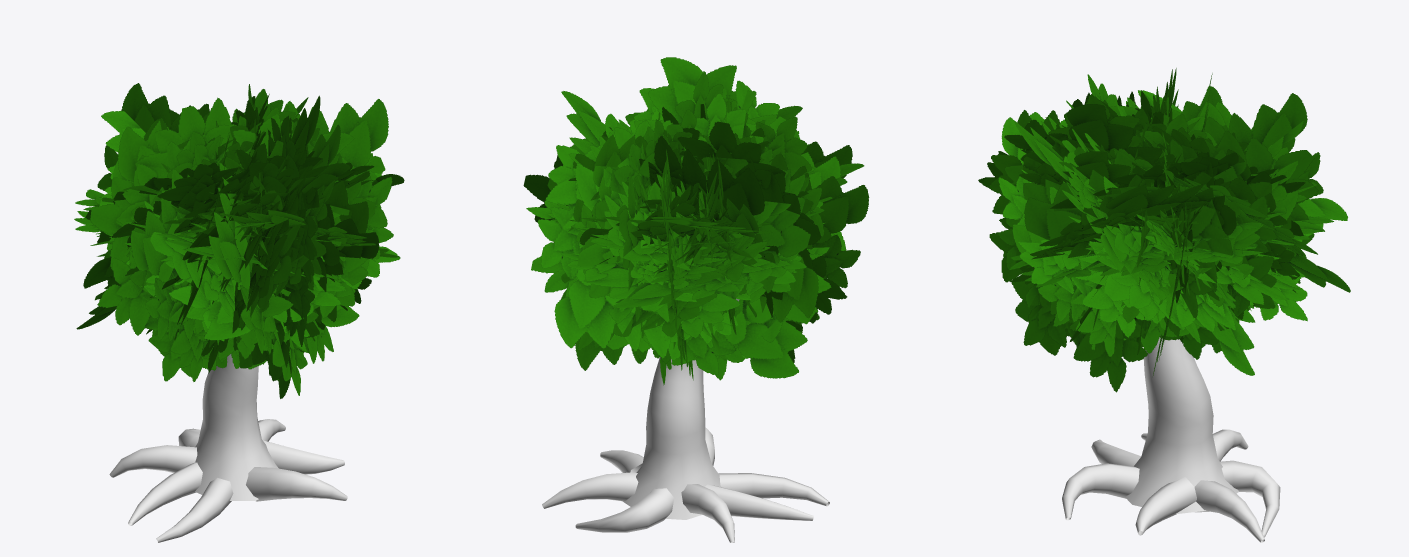
The model's file is tree.fbx.
3 views of the same model, side by side, from view 1: azimuth 30°, elevation 25°; view 2: azimuth 150°, elevation 25°; view 3: azimuth 270°, elevation 25° (orthographic). The views are drawn at different scales.
Visible parts, largest first — view 1: TreeLeaves2_LOD0, TreeStump_LOD0; view 2: TreeLeaves2_LOD0, TreeStump_LOD0; view 3: TreeLeaves2_LOD0, TreeStump_LOD0.
Boxes of the visible parts, box(x1,y1,x2,y2) form: TreeLeaves2_LOD0: box(74, 83, 404, 398); TreeStump_LOD0: box(109, 354, 347, 542); TreeLeaves2_LOD0: box(523, 57, 869, 385); TreeStump_LOD0: box(542, 298, 829, 542); TreeLeaves2_LOD0: box(978, 68, 1350, 392); TreeStump_LOD0: box(1062, 337, 1280, 542).
Size of what is drawn, in the model's own units: 1014 by 1164 by 1003.
Materials: 2 (1 with a texture image).
